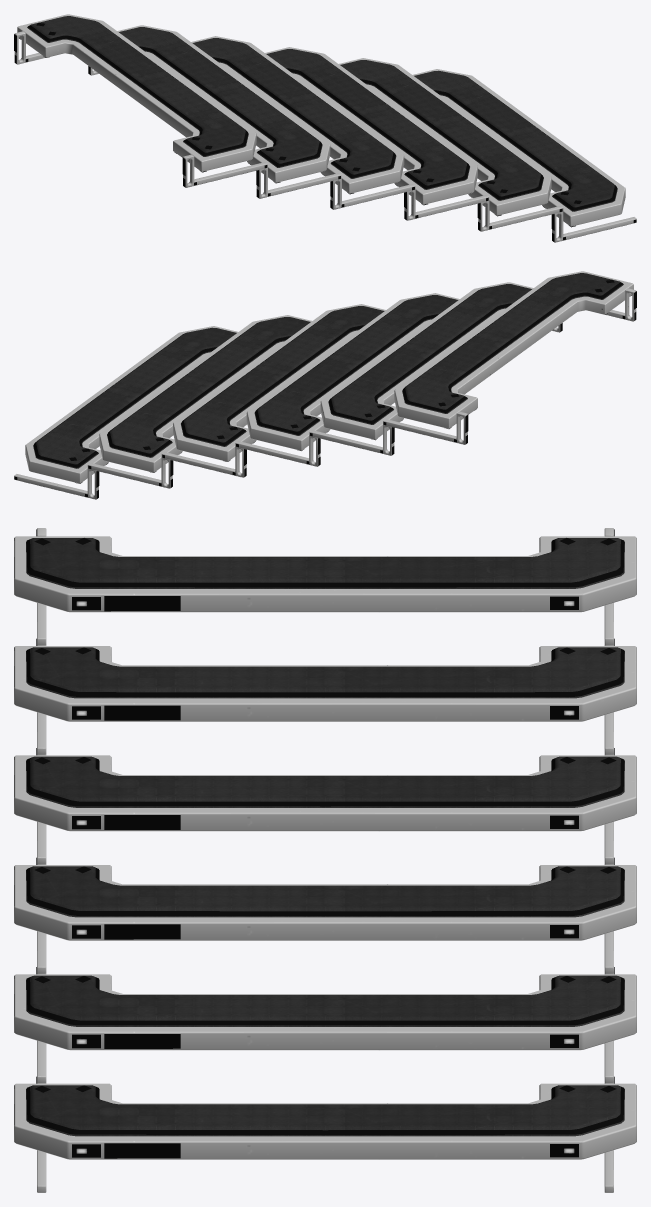
File: SM_Stairs_4_Merged.fbx
3 views of the same model, one above another, from view 1: azimuth 30°, elevation 25°; view 2: azimuth 150°, elevation 25°; view 3: azimuth 270°, elevation 25° (orthographic). The views are drawn at different scales.
Parts seen in each view (by area): view 1: SM_Stairs_4_Merged_LOD0; view 2: SM_Stairs_4_Merged_LOD0; view 3: SM_Stairs_4_Merged_LOD0.
Part boxes in pixels (left/top/right/bottom): SM_Stairs_4_Merged_LOD0: left=14, top=14, right=636, bottom=242; SM_Stairs_4_Merged_LOD0: left=14, top=271, right=636, bottom=499; SM_Stairs_4_Merged_LOD0: left=14, top=528, right=636, bottom=1192.
Bounding box in the file's own units: 245 × 174 × 92.42.
